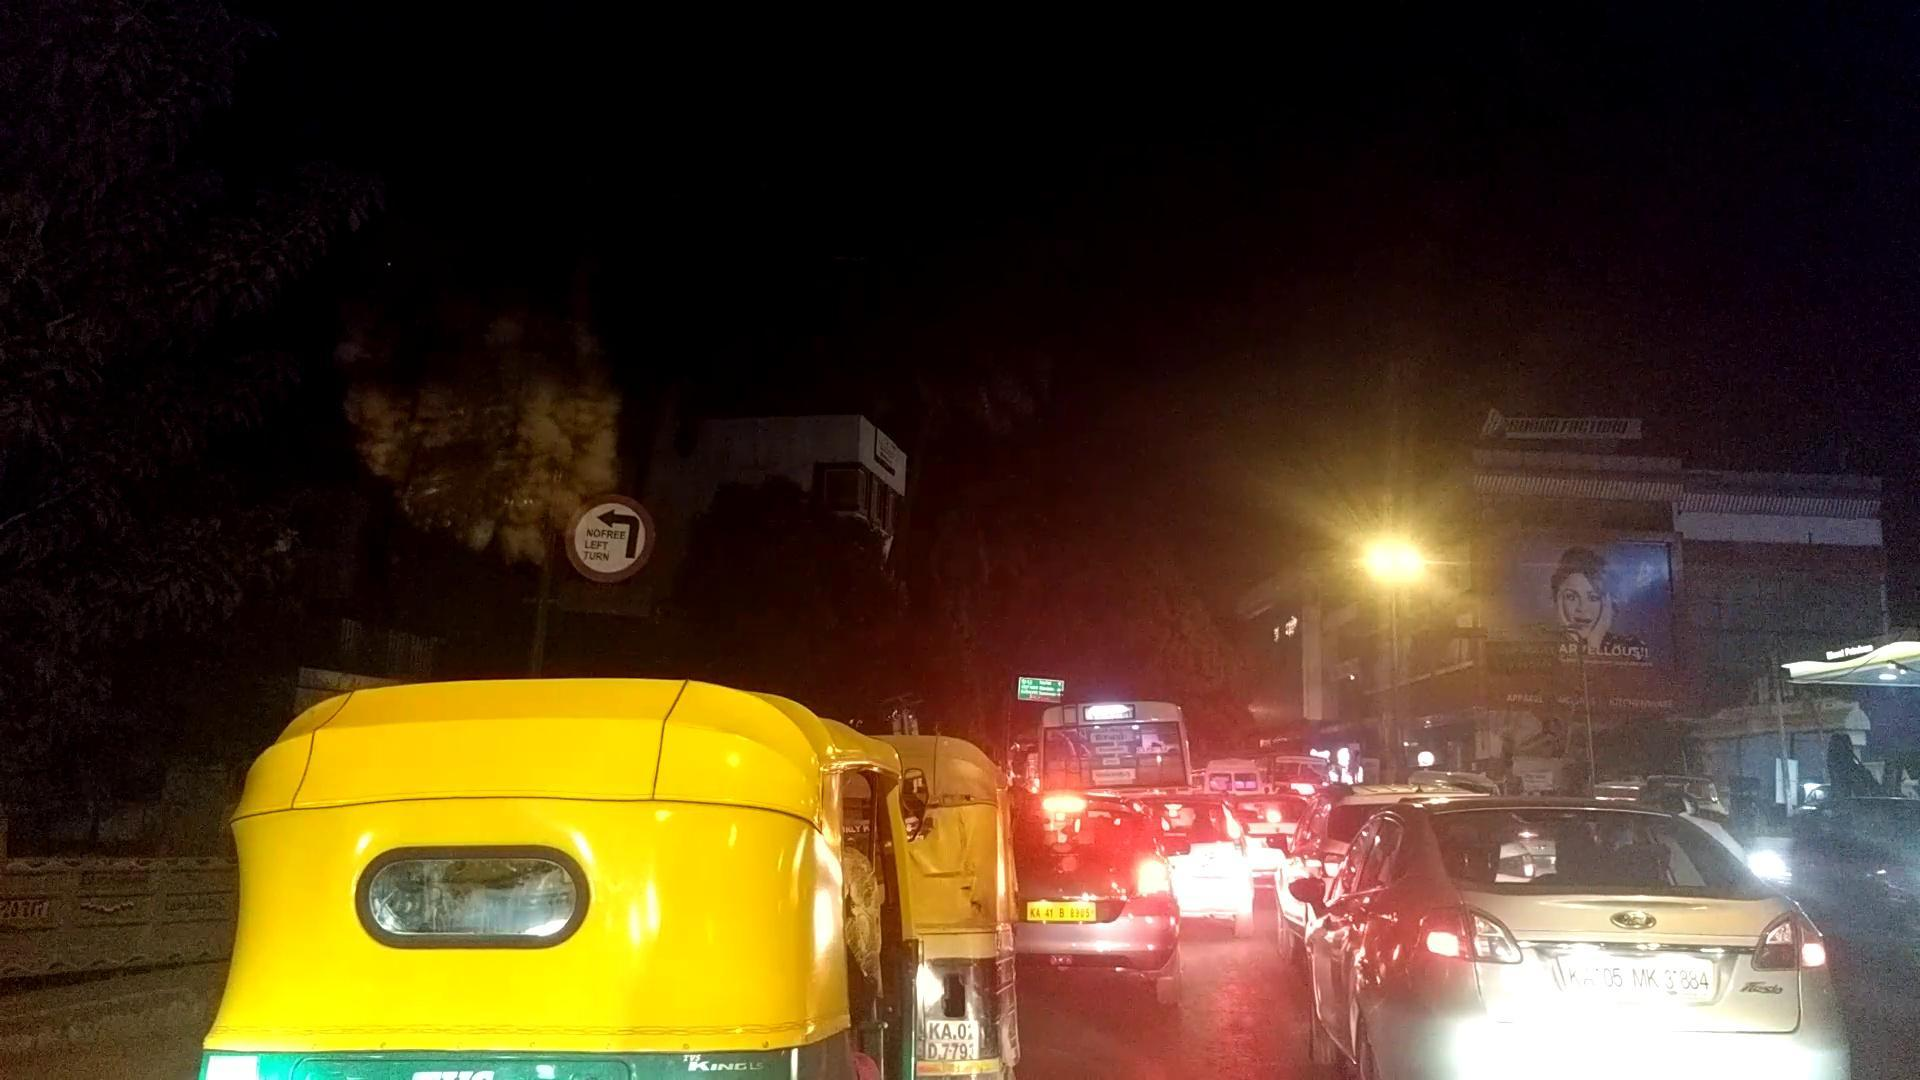on: (1160, 342, 1606, 827)
